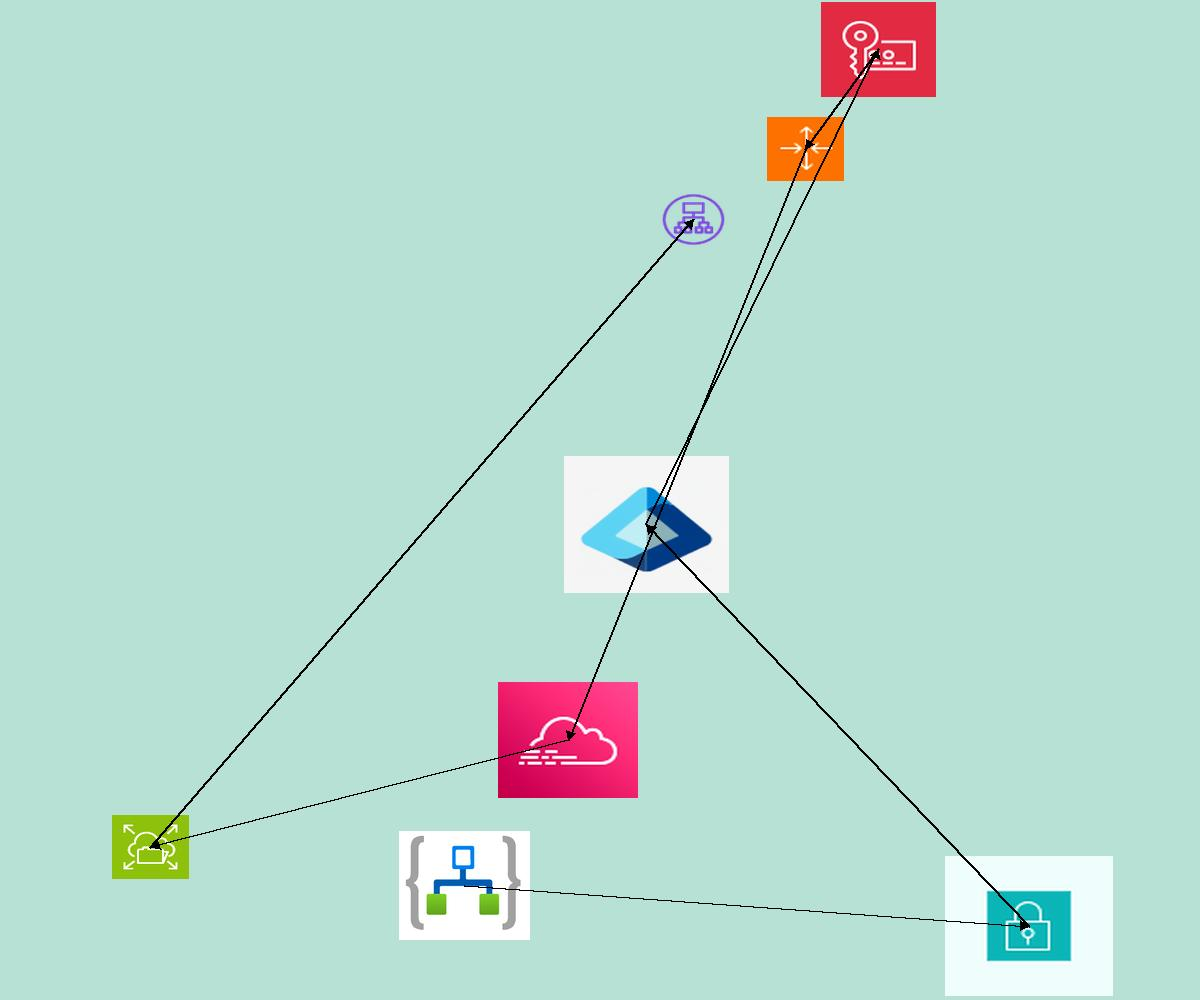AWS-CloudTrail: (498, 682, 638, 798)
AWS-EFS: (112, 815, 189, 879)
AWS-Key-Management-Service: (821, 2, 936, 97)
AWS-Private-subnet: (945, 856, 1113, 996)
AWS-Res_Elastic-Load-Balancing_Application-Load-Balancer: (660, 192, 727, 247)
AWS-Scaling-group: (767, 117, 844, 181)
Azure_integration-204-Logic-Apps: (399, 831, 530, 940)
Azure_microsoft_entra: (564, 456, 729, 593)
